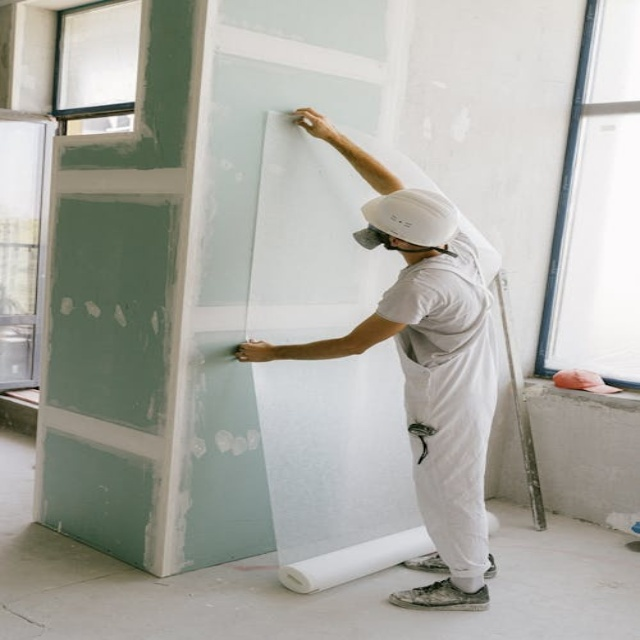Mascara: (352, 226, 385, 250)
Sin_guantes: (288, 104, 335, 143), (232, 334, 274, 363)
